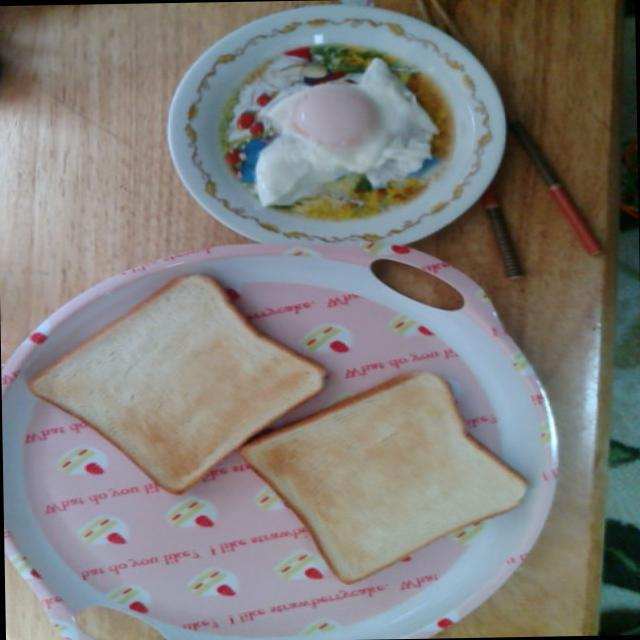Bread: (232, 353, 534, 583), (23, 268, 326, 494)
Egg: (247, 50, 436, 208)
